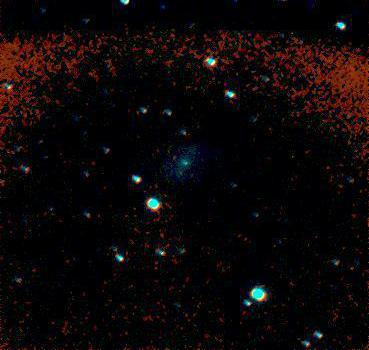star: (259, 230, 289, 260)
